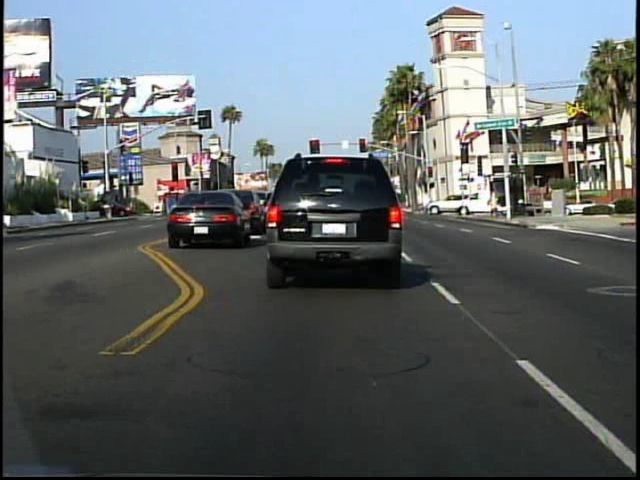person: (487, 185, 501, 219)
